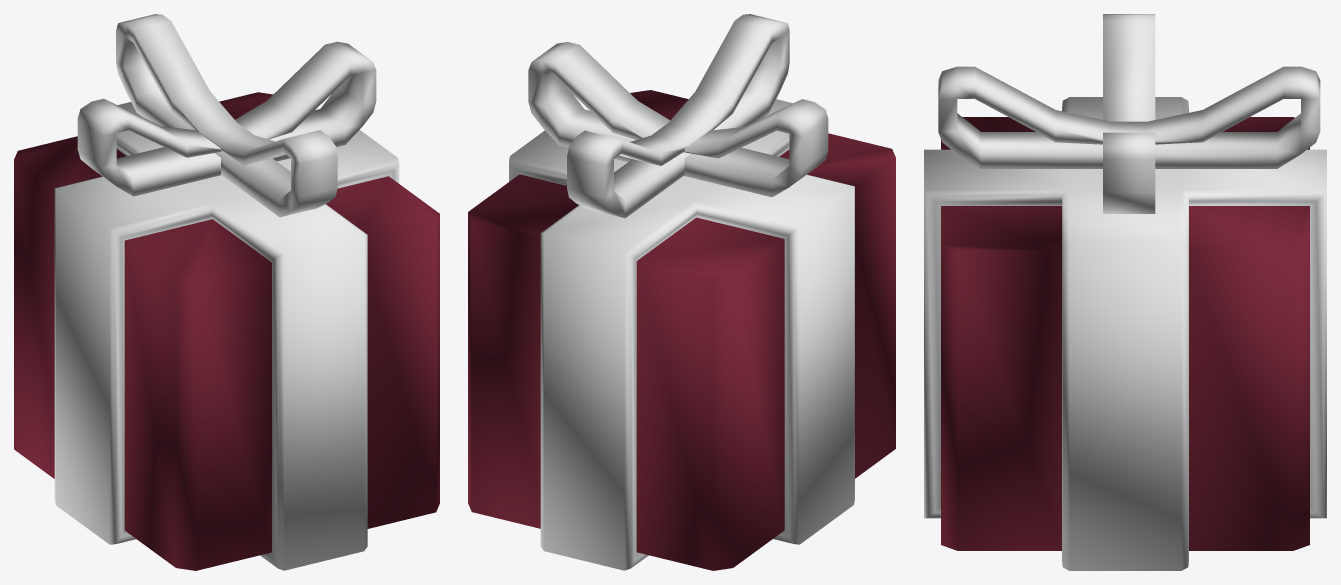
Rendered from giftMidlleLow.fbx.
The picture shows the model from 3 angles, left to right: view 1: azimuth 30°, elevation 25°; view 2: azimuth 150°, elevation 25°; view 3: azimuth 270°, elevation 25°; orthographic projection. The views are drawn at different scales.
Visible parts, largest first — view 1: giftMiddleLow; view 2: giftMiddleLow; view 3: giftMiddleLow.
Part boxes in pixels (bbox=[...]): giftMiddleLow: bbox=[14, 14, 439, 570]; giftMiddleLow: bbox=[468, 14, 895, 570]; giftMiddleLow: bbox=[924, 14, 1326, 570].
Bounding box in the file's own units: 0.3275 × 0.443 × 0.3825.
